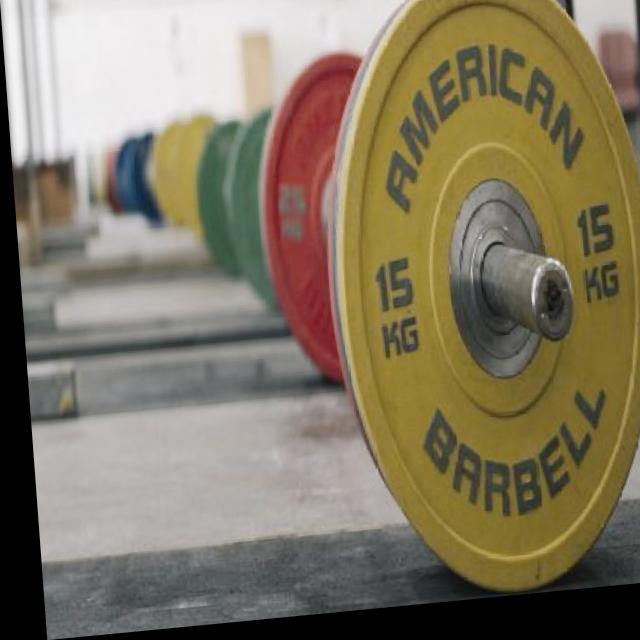barbell: (310, 1, 640, 617)
